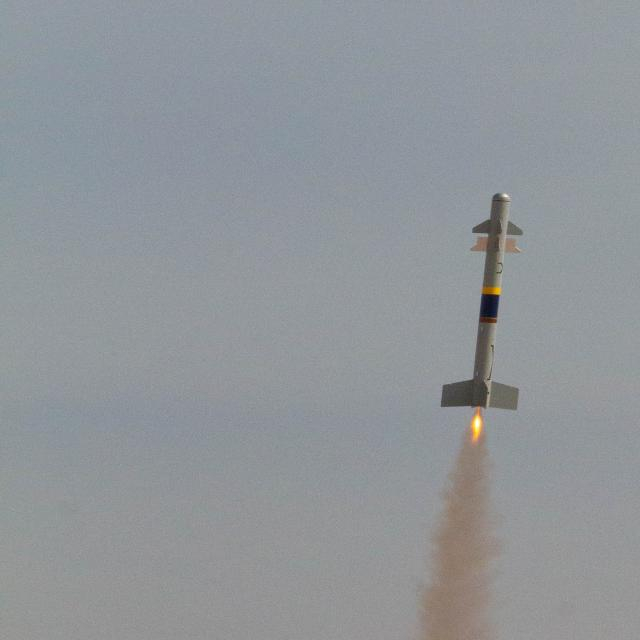Rocket: (440, 191, 524, 411)
